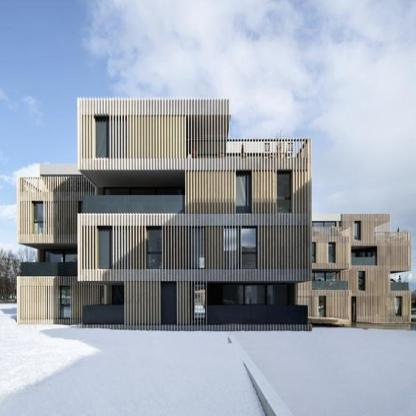Balcony: (186, 138, 311, 158), (83, 195, 185, 214), (208, 306, 308, 324), (17, 177, 94, 193), (21, 262, 78, 276), (83, 305, 123, 323)
Building Outline: (16, 97, 313, 331)
Facade: (16, 97, 312, 331)
Floor Slab: (78, 270, 311, 280), (78, 160, 311, 170), (78, 215, 311, 225), (17, 193, 94, 200), (17, 277, 77, 284), (17, 236, 77, 243)
Glass Wall: (209, 284, 289, 323), (104, 187, 185, 214), (45, 249, 77, 276)
Window: (223, 227, 256, 269), (95, 116, 127, 159), (82, 227, 111, 269), (147, 227, 162, 269), (190, 227, 205, 269), (277, 170, 291, 213), (236, 170, 250, 213), (193, 282, 205, 323), (113, 287, 124, 322), (33, 203, 43, 234), (61, 287, 71, 317)
